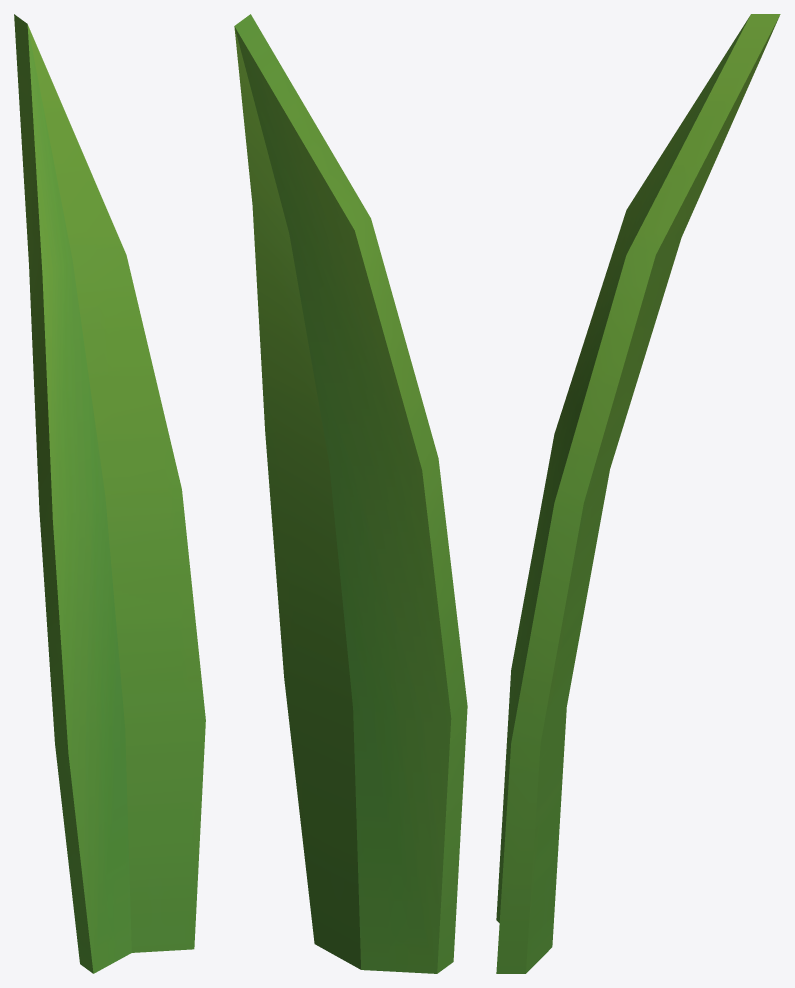
The model's file is Grass_2_A_Color1.gltf.
3 views of the same model, side by side, from view 1: azimuth 30°, elevation 25°; view 2: azimuth 150°, elevation 25°; view 3: azimuth 270°, elevation 25° (orthographic). The views are drawn at different scales.
Parts seen in each view (by area): view 1: Grass_2_A_Color1; view 2: Grass_2_A_Color1; view 3: Grass_2_A_Color1.
Boxes of the visible parts, x1,y1,x2,y2 form: Grass_2_A_Color1: (14, 14, 205, 973); Grass_2_A_Color1: (234, 14, 467, 973); Grass_2_A_Color1: (496, 14, 780, 973).
Bounding box in the file's own units: 0.155 × 0.9188 × 0.2536.
Materials: 1 (1 with a texture image).
